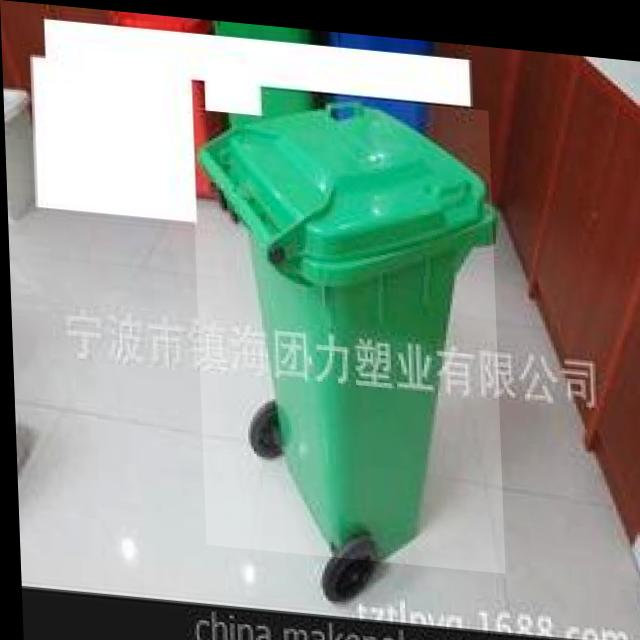garbage_bin: (189, 78, 501, 564)
